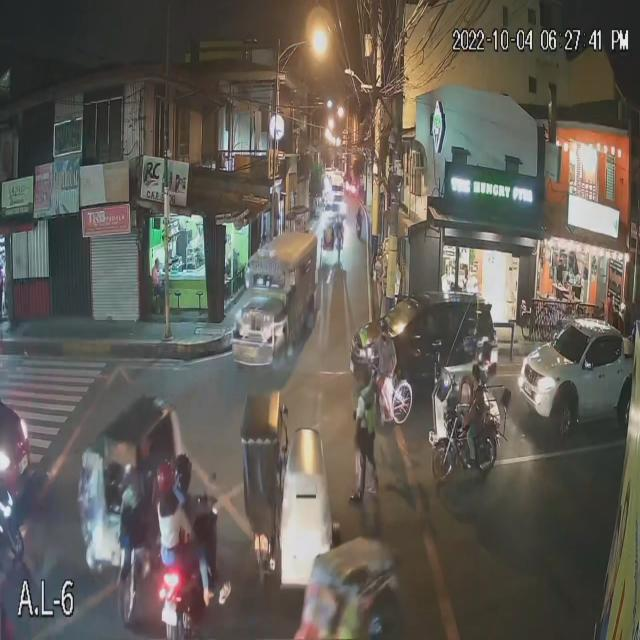Full-Faced: (155, 459, 176, 495), (176, 452, 196, 489), (170, 449, 188, 486), (355, 202, 365, 222)
